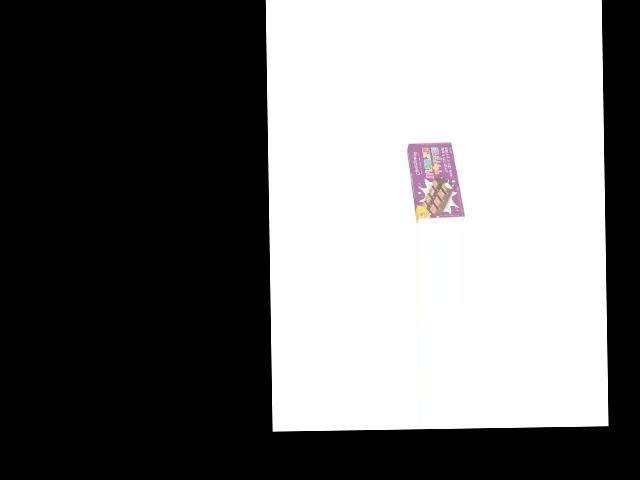chocolate: (407, 136, 461, 224)
